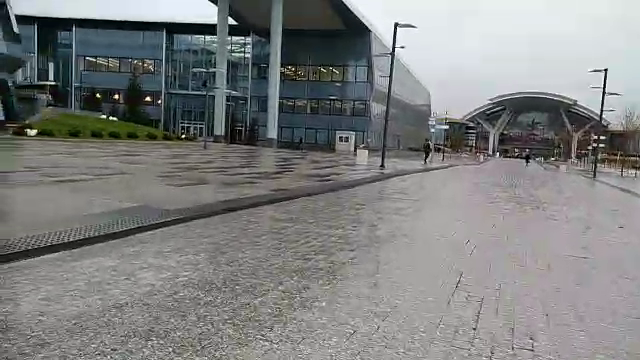mega: (455, 77, 615, 175)
